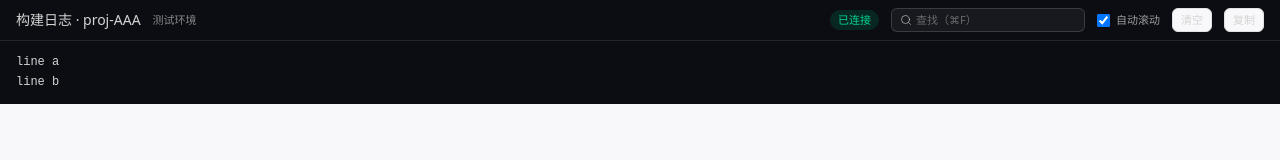
LogView 语法高亮与查找 › 搜索会关掉自动滚动，清除后计数消失
(page scrolled)
Expected: the checkbox labelled "自动滚动" is checked, [1097,14,1110,26]
In the field with test id "log-search": (996, 20) [916,12,1076,28], type "line"
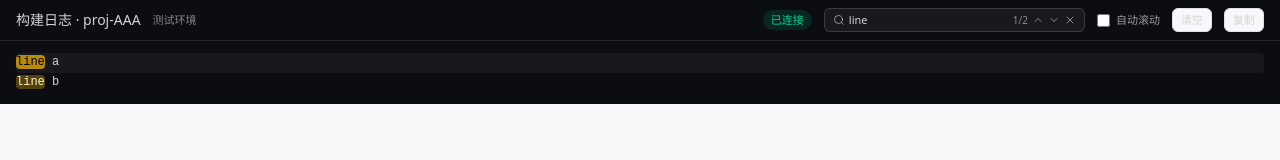
Expected: the checkbox labelled "自动滚动" is not checked, [1097,14,1110,26]
Click the button with test id "search-clear": (1070, 20) [1064,14,1076,26]
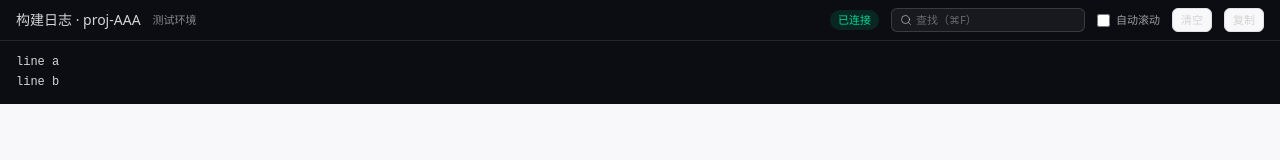
Expected: the field with test id "log-search" is empty, [916,12,1076,28]
